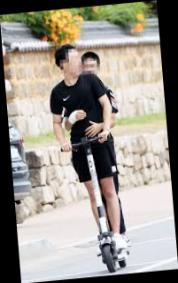multiple: (42, 37, 138, 280)
